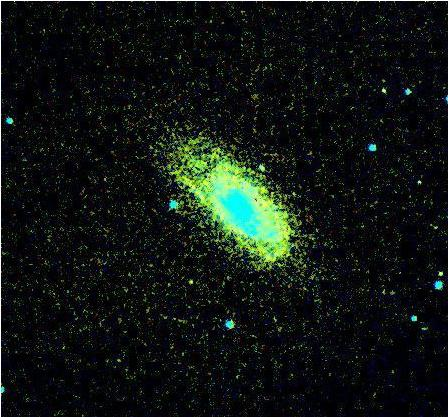star: (425, 258, 448, 288)
